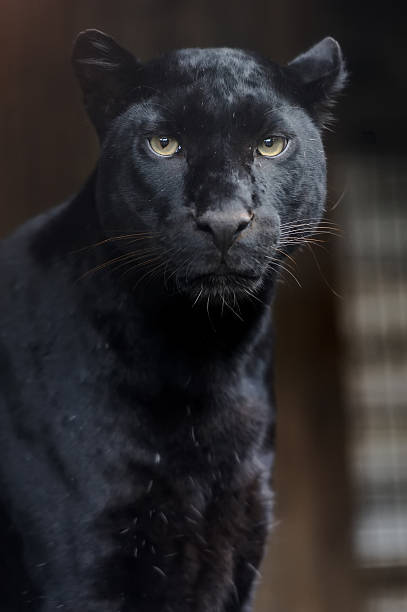panther: (67, 11, 358, 325)
